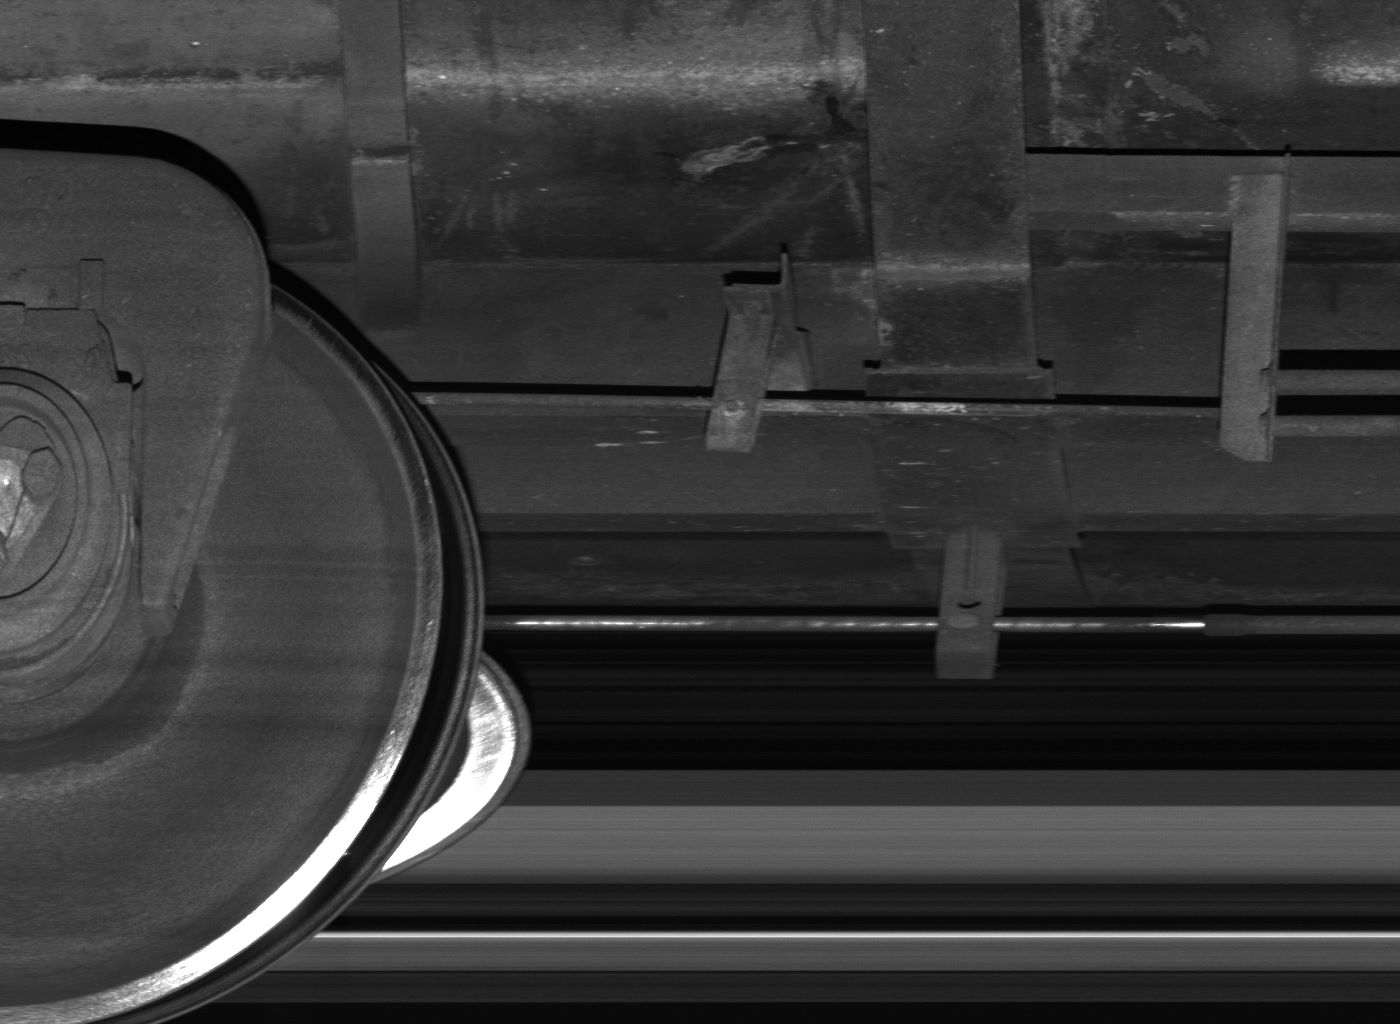normal: (705, 255, 811, 453), (937, 528, 1007, 678)
